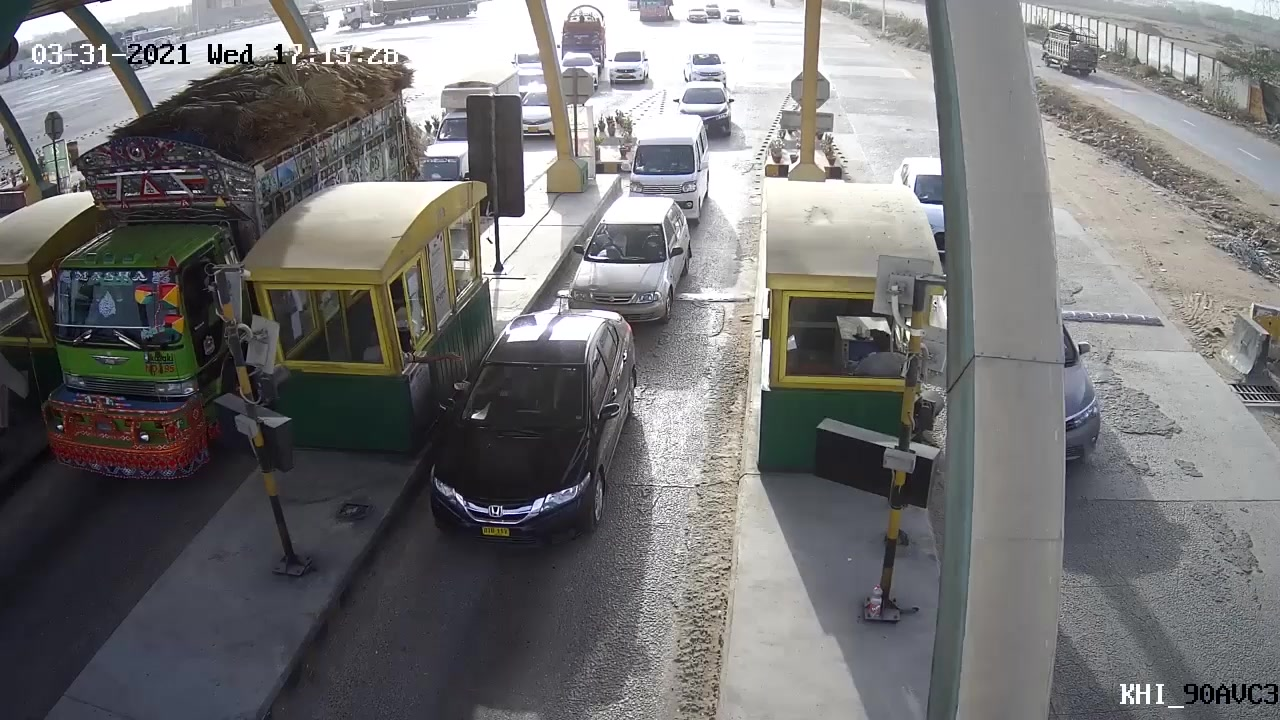F1: (419, 308, 639, 561), (563, 194, 694, 322)
